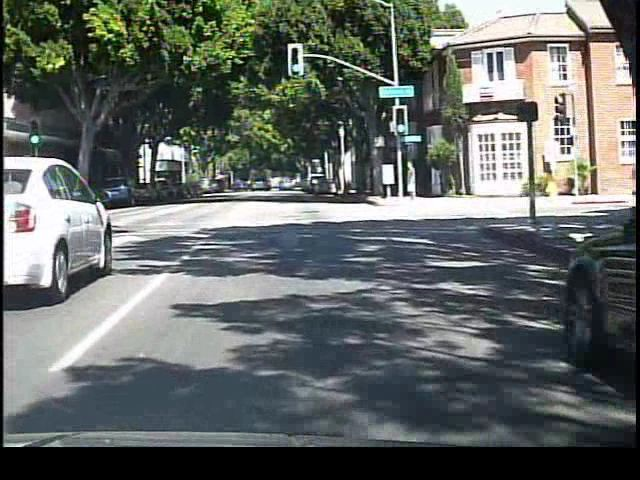person: (405, 157, 425, 208)
